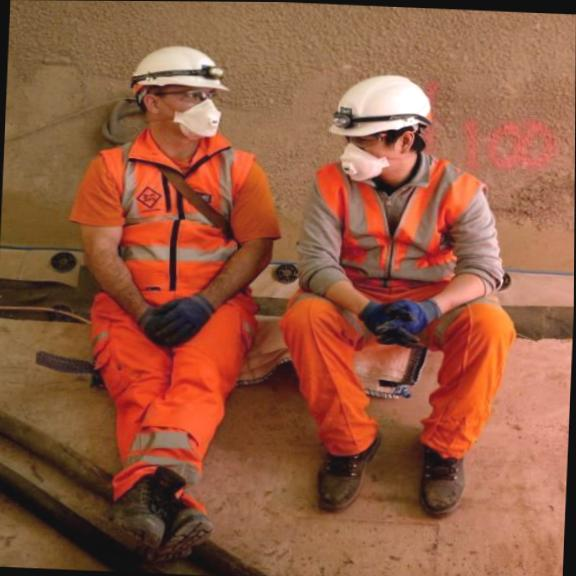safety_vest: (60, 151, 260, 428), (292, 152, 508, 331)
